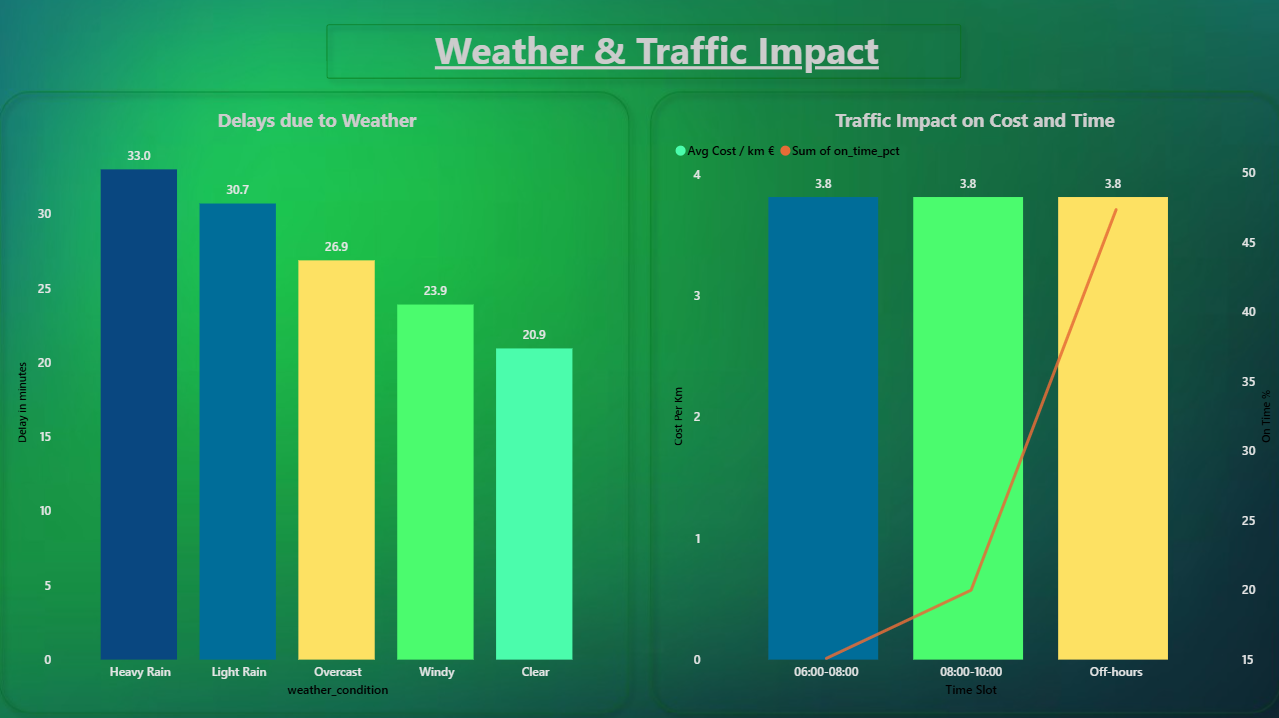

The page's visual inventory and layout, read from the dashboard file:
{"tool":"powerbi","page":{"name":"Page 4","canvas":[1280,720],"ordinal":3},"visuals":[{"type":"clusteredColumnChart","title":"Delays due to Weather","fields":{"Category":["ops v_weather_impact.weather_condition"],"Y":["Date.Avg Delay (min)"]},"box":[13.5,108,606.1,596.3],"z":0},{"type":"lineStackedColumnComboChart","title":"Traffic Impact on Cost and Time","fields":{"Category":["ops v_peak_impact.time_slot"],"Y":["Date.Avg Cost / km €"],"Y2":["Sum(ops v_peak_impact.on_time_pct)"]},"box":[669.9,108,609.8,596.3],"z":1000},{"type":"textbox","box":[354.6,19.6,603.7,63.8],"z":2000},{"type":"shape","box":[316.6,14.7,655.2,74.8],"z":3000}]}

Visuals, with their boxes in screenshot pixels (x1, y1, x2, y2), scaled from the page's 1280x720 canvas onto the 1279x718 screenshot:
"Delays due to Weather" clusteredColumnChart: box(13, 108, 619, 702)
"Traffic Impact on Cost and Time" lineStackedColumnComboChart: box(669, 108, 1278, 702)
textbox: box(354, 20, 958, 83)
shape: box(316, 15, 971, 89)
